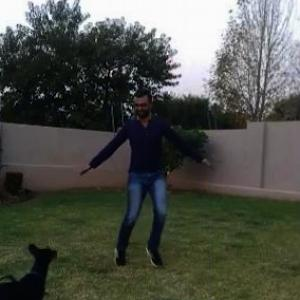land: (75, 69, 228, 275)
